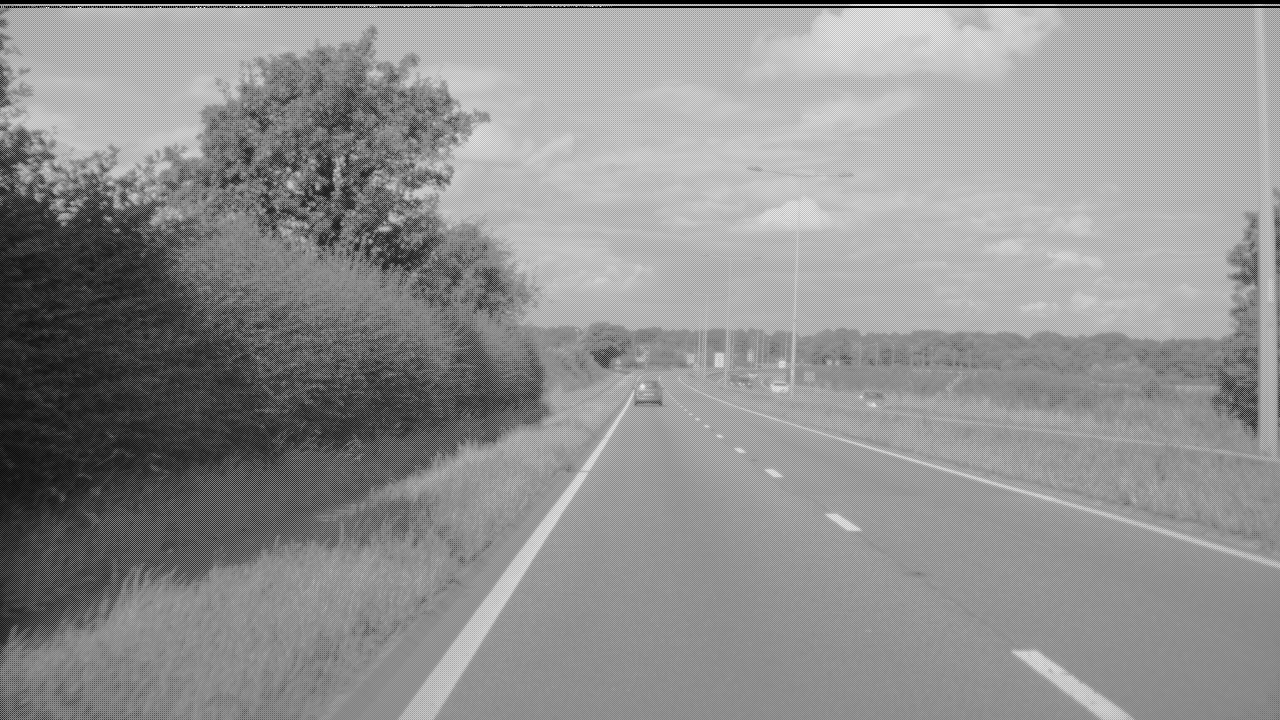pole: (1253, 3, 1280, 455), (787, 175, 806, 401)
